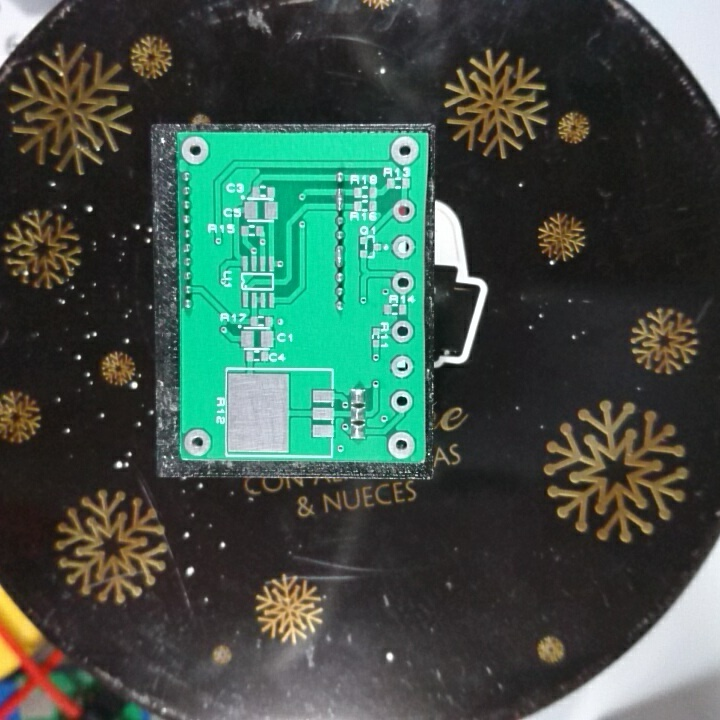F: (179, 132, 213, 167), (385, 428, 418, 461), (389, 134, 422, 166), (182, 426, 214, 456), (388, 232, 420, 261), (390, 195, 418, 225), (388, 317, 416, 345), (387, 269, 416, 295), (389, 351, 415, 379), (389, 389, 414, 413)
P: (333, 184, 350, 216), (332, 241, 349, 269)
